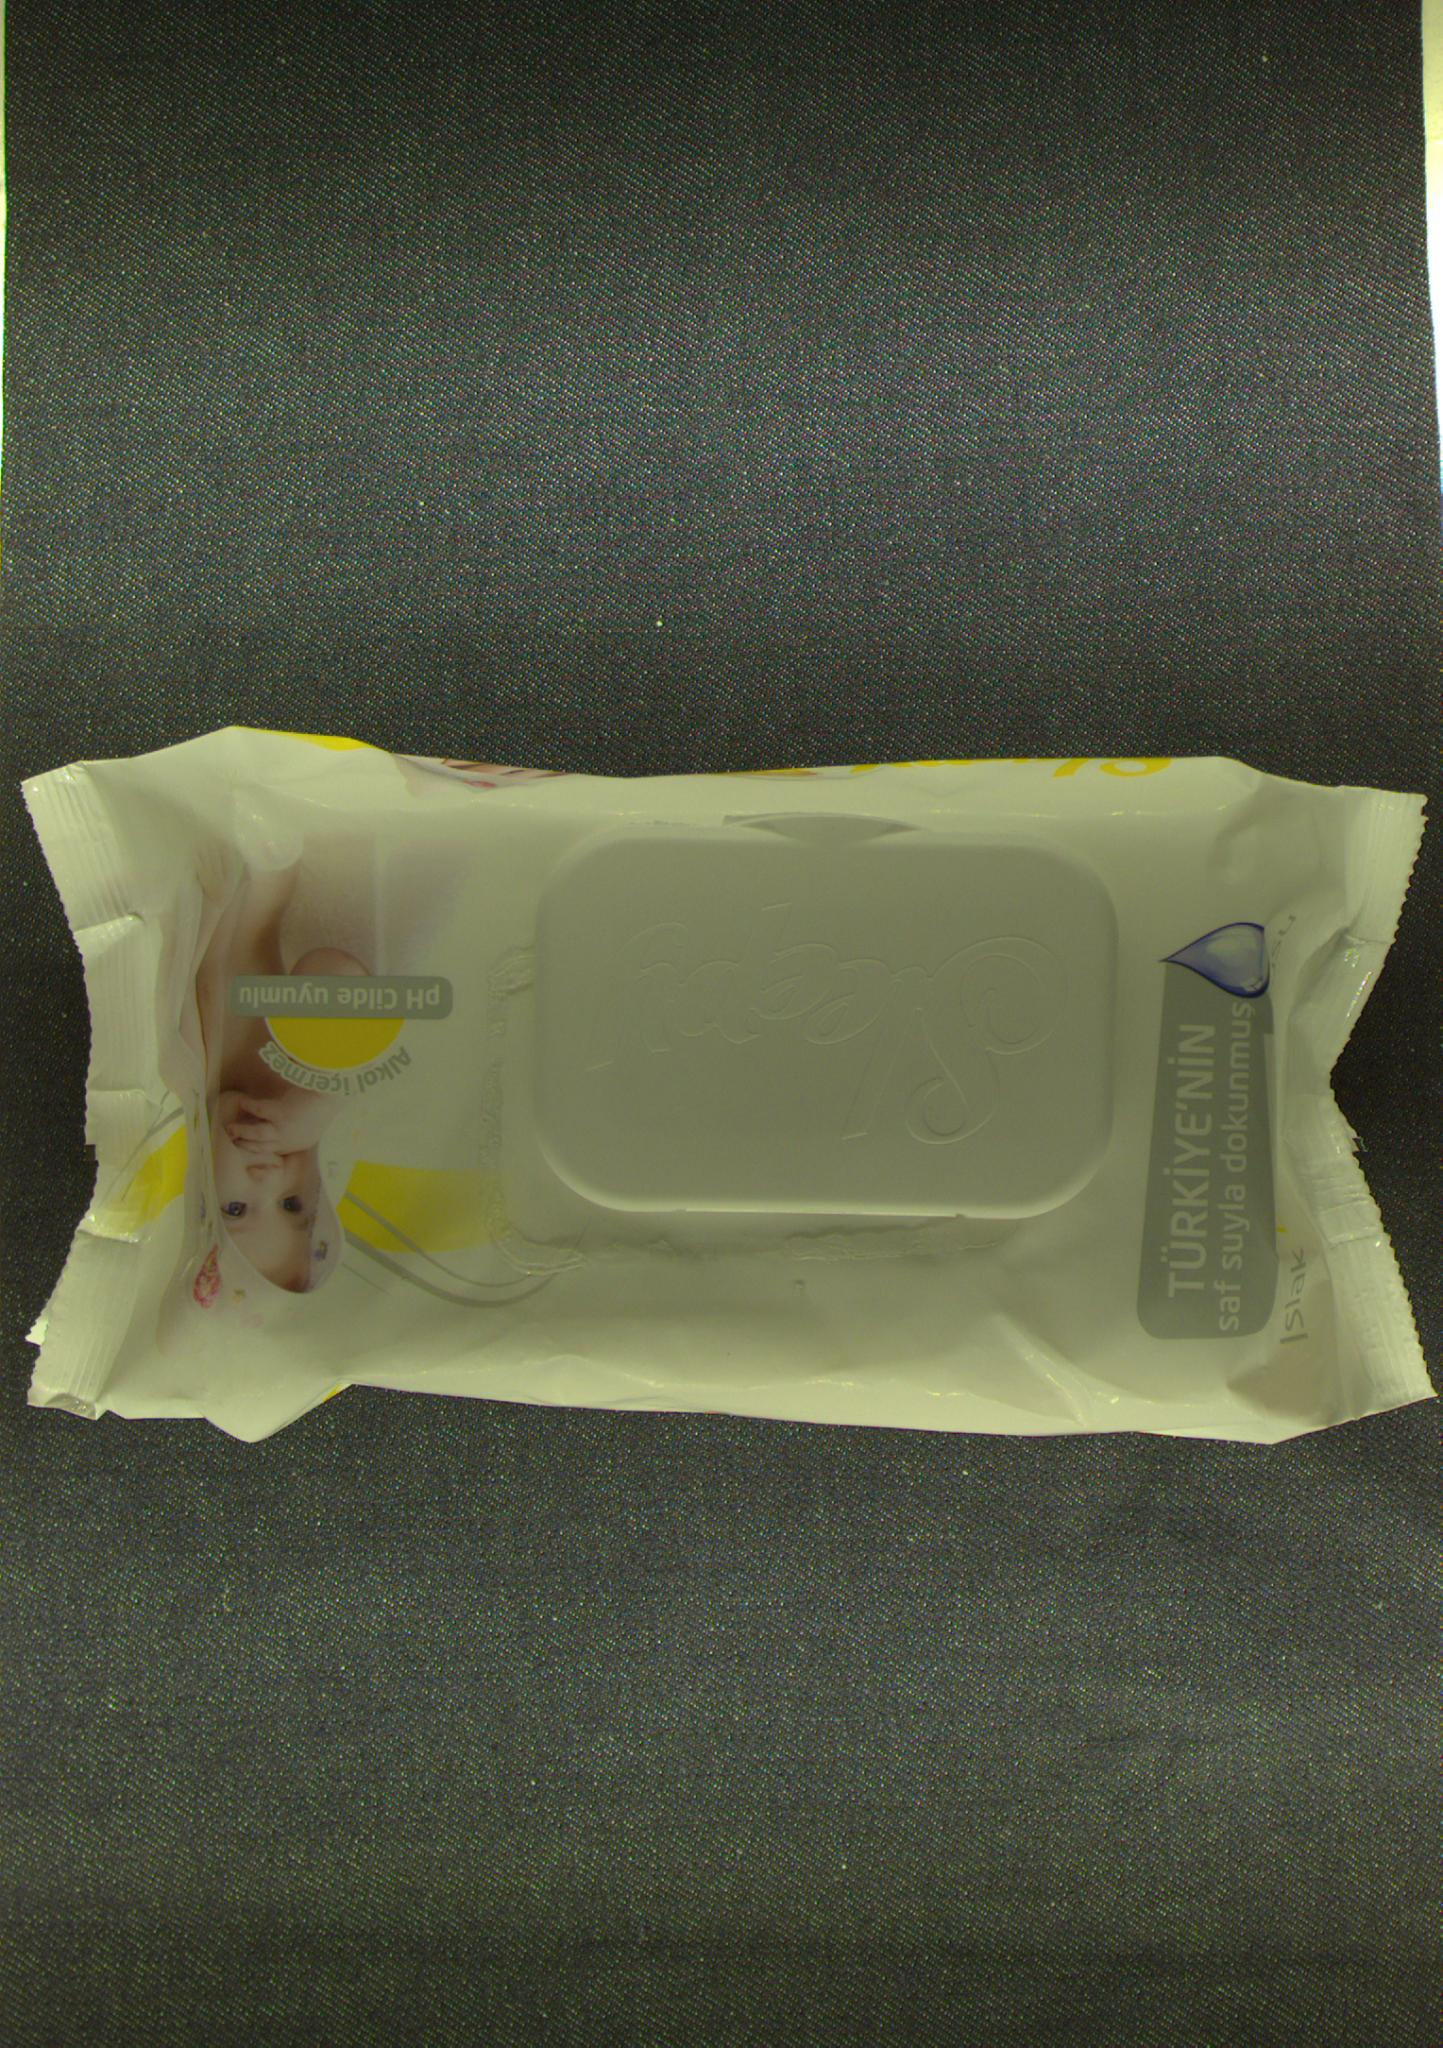kapak: (543, 815, 1121, 1222)
